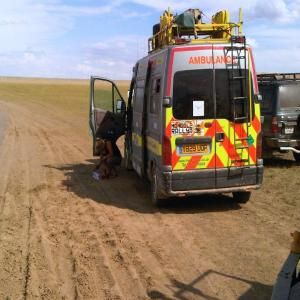Vehicle-registration-plate: (179, 142, 209, 155), (286, 126, 295, 134)
